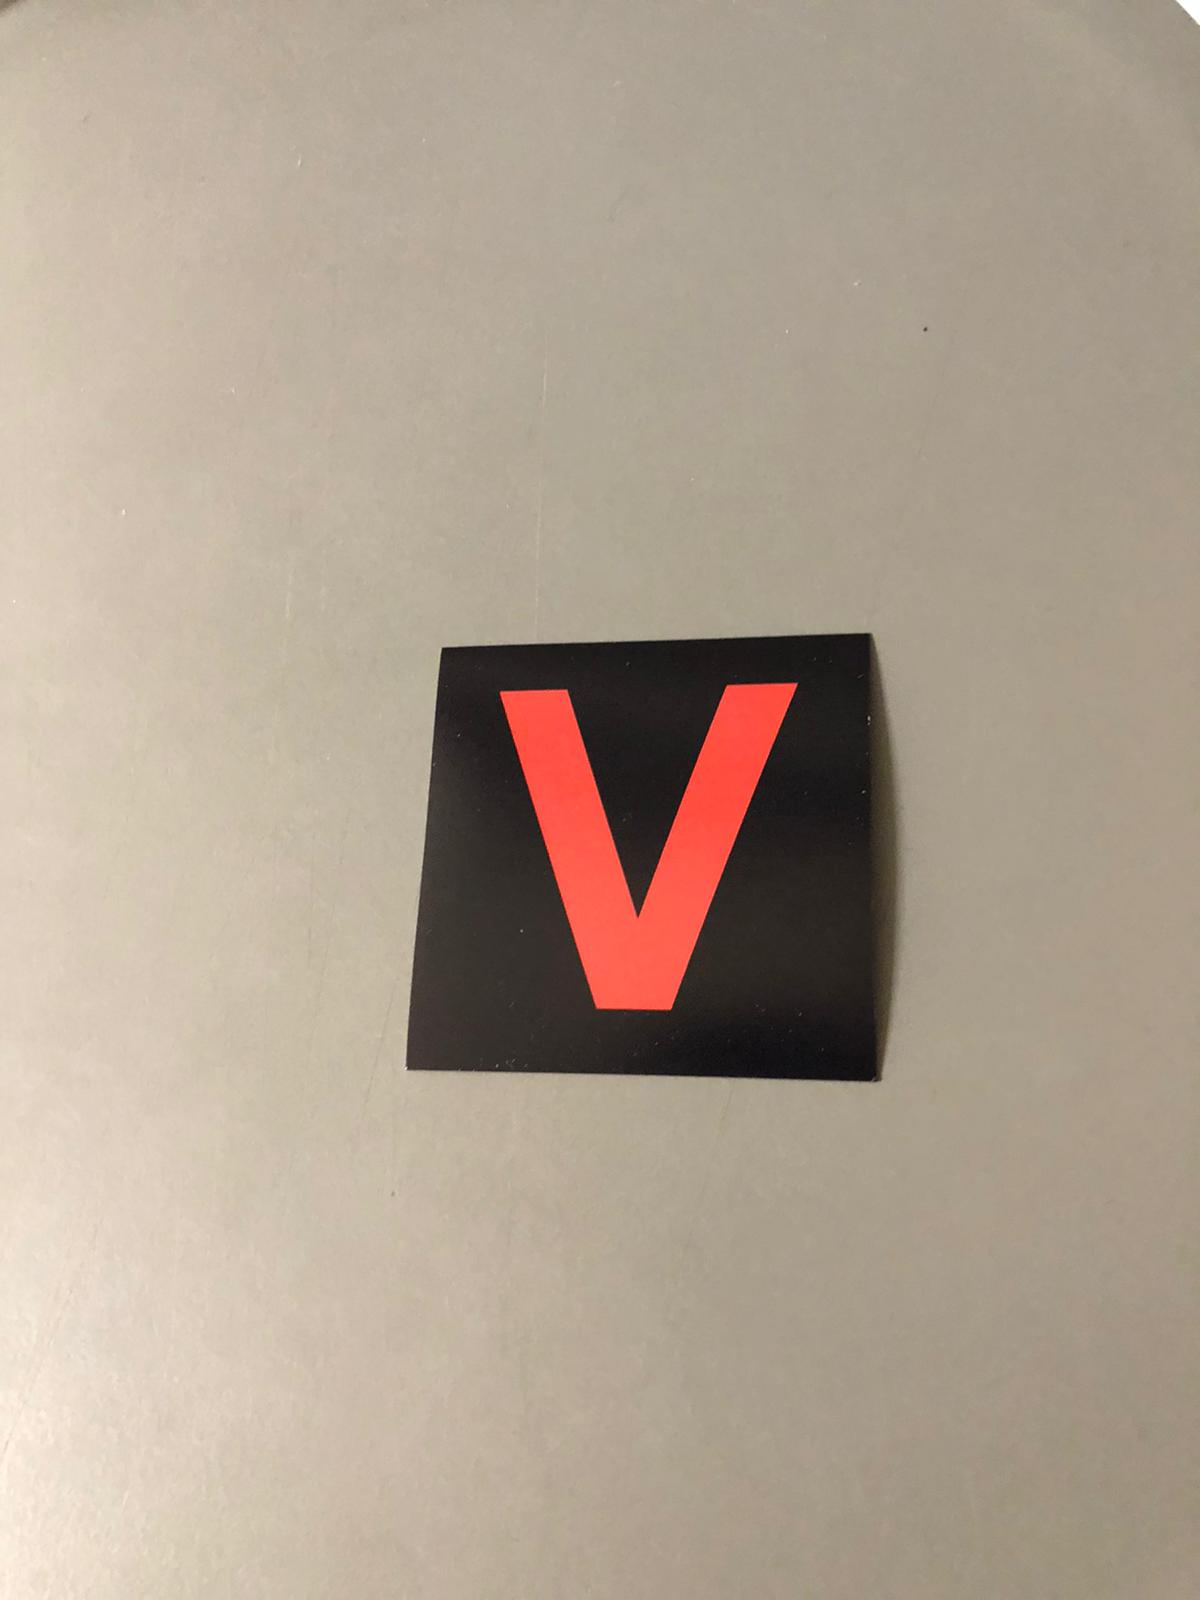V: (458, 656, 838, 1060)
